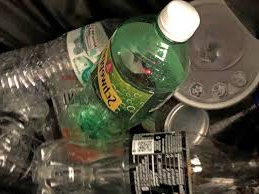plastic water bottle: (61, 1, 200, 139), (32, 136, 259, 194), (1, 21, 111, 95)
